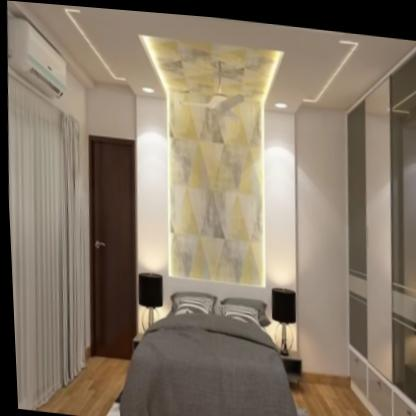Bed: (114, 269, 301, 416)
Closet: (345, 48, 416, 416)
Curtains: (7, 69, 89, 411)
Gypsum Board: (16, 1, 416, 108)
Lamp: (266, 279, 298, 355), (130, 267, 165, 331)
Wall Panel: (130, 84, 303, 287)
Wooden floor: (30, 356, 127, 416), (288, 369, 375, 416)
